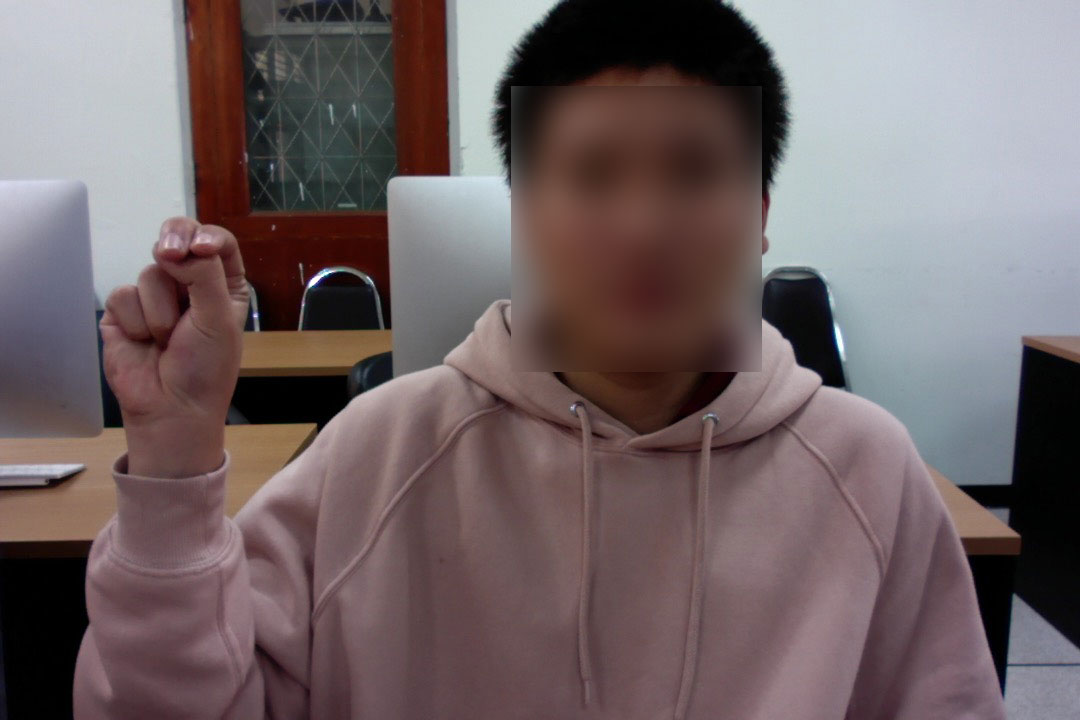nor: (92, 198, 259, 465)
